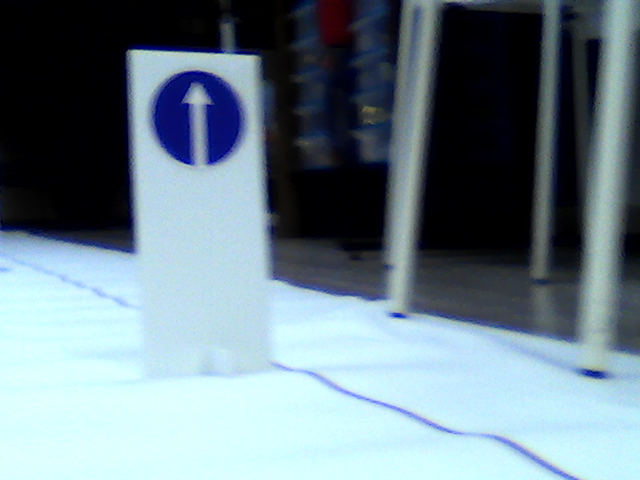forw: (147, 66, 248, 167)
